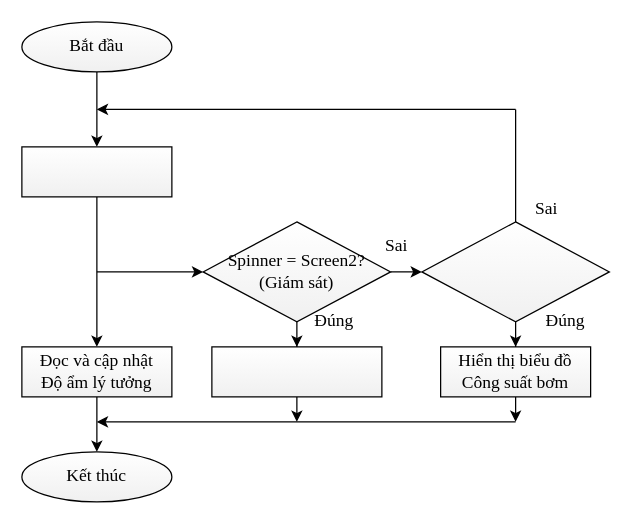
The diagram is 631 pixels wide and 524 high, and some of its shapes have lost their labels. The shapes that lost their labels are listed below. From the top down, each one's box as (x1, y1, x2, y2) in pixels, then its label:
(21, 146, 172, 197): Mở Screen1 (Cài đặt)
(421, 221, 609, 322): Spinner = Screen3? (Bơm)
(211, 346, 382, 397): Hiển thị biểu đồ Độ ẩm tại 4 điểm đo
